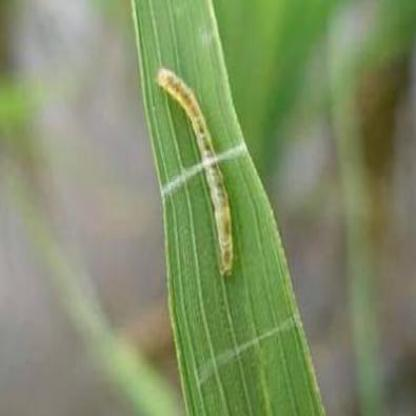leaf-folder: (148, 56, 258, 292)
